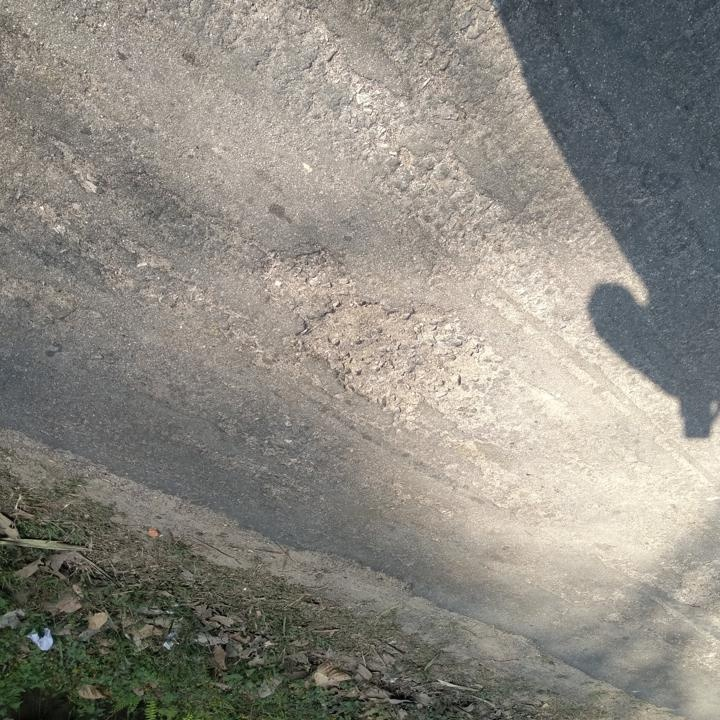pothole: (286, 298, 497, 424), (261, 241, 359, 300)
